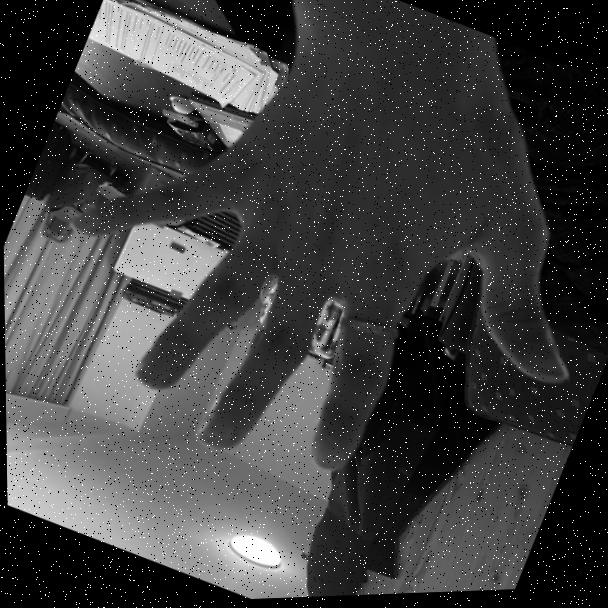five: (1, 0, 608, 570)
